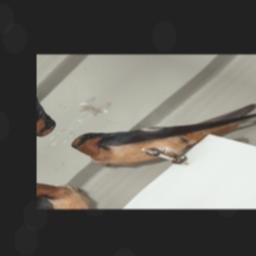Swallow: (63, 60, 256, 193)
